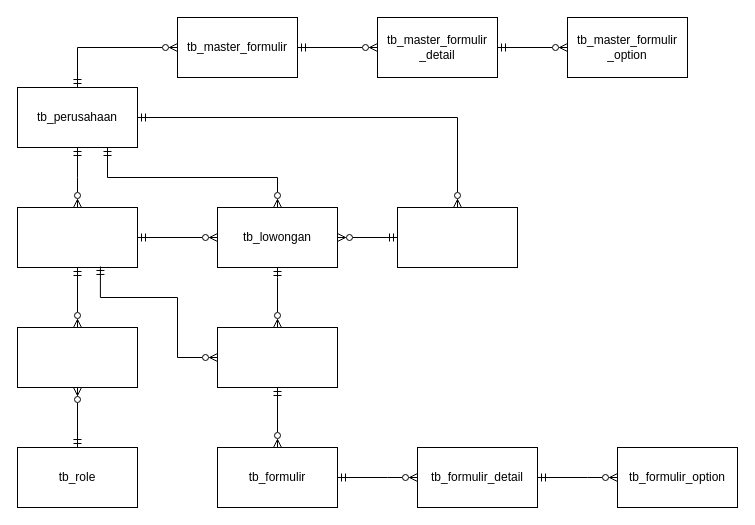
Some shapes in this 755 by 525 pixel diagram are drawn without their labels. Each missing label, with the centre of its shape:
"tb_jabatan" goes at point 457,237.
"tb_lamaran" goes at point 277,357.
"tb_user" goes at point 77,237.
"tb_user_role" goes at point 77,357.
